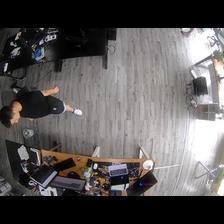normal: (1, 85, 83, 126)
